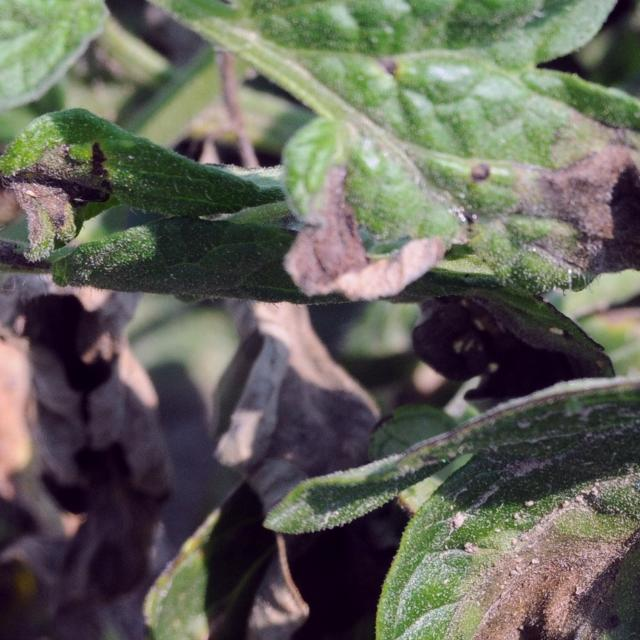Tomato leaf late blight: (218, 0, 640, 335), (336, 363, 640, 640)
